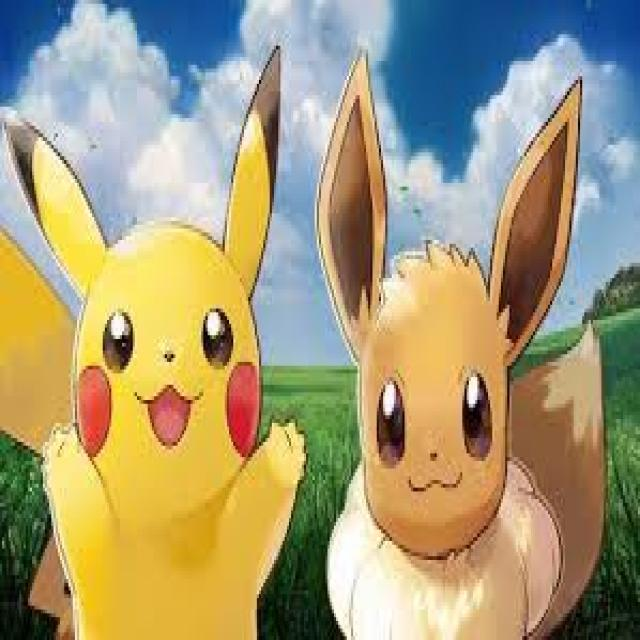Eevee: (329, 200, 545, 640)
Pikachu: (57, 197, 272, 640)
